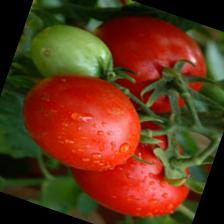tomato: (72, 0, 220, 129), (9, 58, 155, 186), (60, 101, 207, 224)
